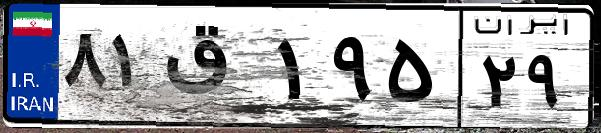1: (270, 28, 330, 110), (110, 28, 158, 98)
2: (475, 38, 525, 113)
5: (385, 28, 445, 110)
8: (57, 26, 110, 100)
9: (330, 28, 385, 110), (525, 38, 570, 115)
ق: (158, 20, 270, 120)
